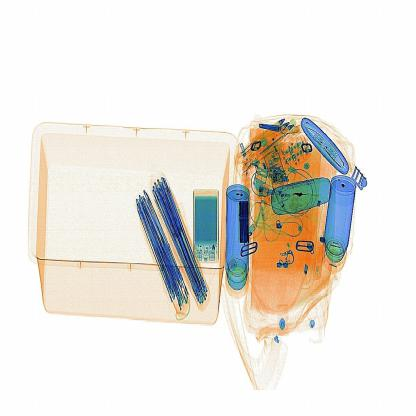scissors: (231, 194, 260, 253)
